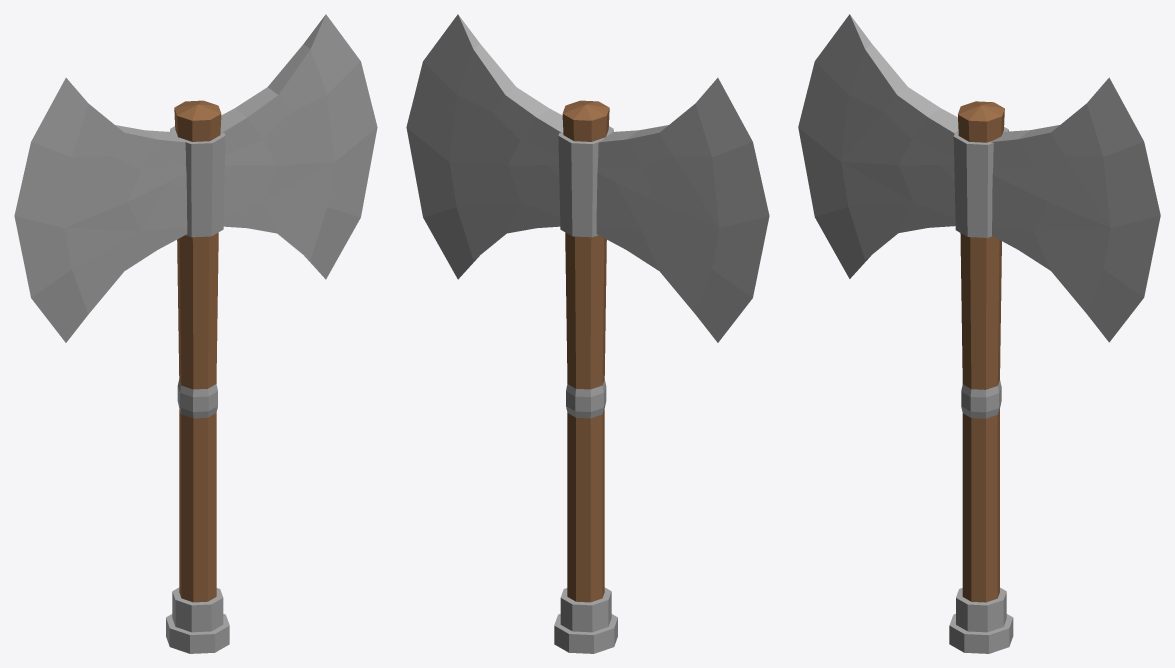
Rendered from axe_2.fbx.
3 views of the same model, side by side, from view 1: azimuth 30°, elevation 25°; view 2: azimuth 150°, elevation 25°; view 3: azimuth 330°, elevation 25° (orthographic).
Parts seen in each view (by area): view 1: Cube; view 2: Cube; view 3: Cube.
Boxes of the visible parts, x1=… form: Cube: x1=14, y1=14, x2=377, y2=653; Cube: x1=406, y1=14, x2=769, y2=653; Cube: x1=798, y1=14, x2=1160, y2=653.
Size of the model in its own units: 2.99 by 4.74 by 0.4884.
